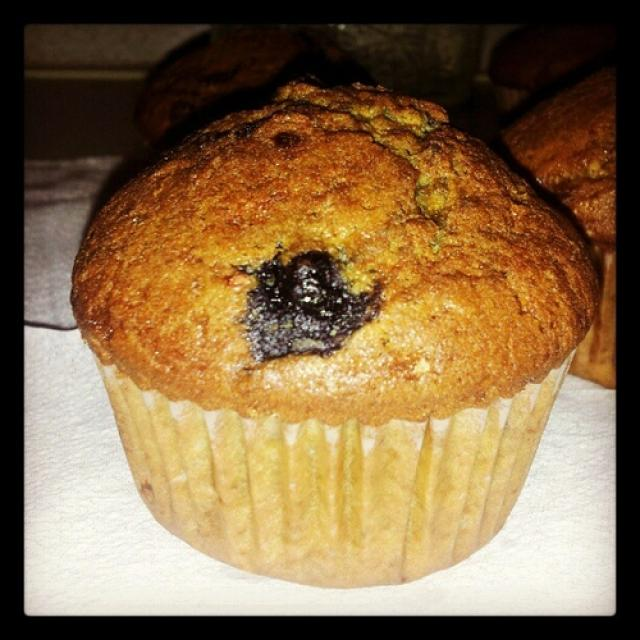炸货点心: (59, 60, 605, 594)
面包点心: (59, 60, 605, 594)
